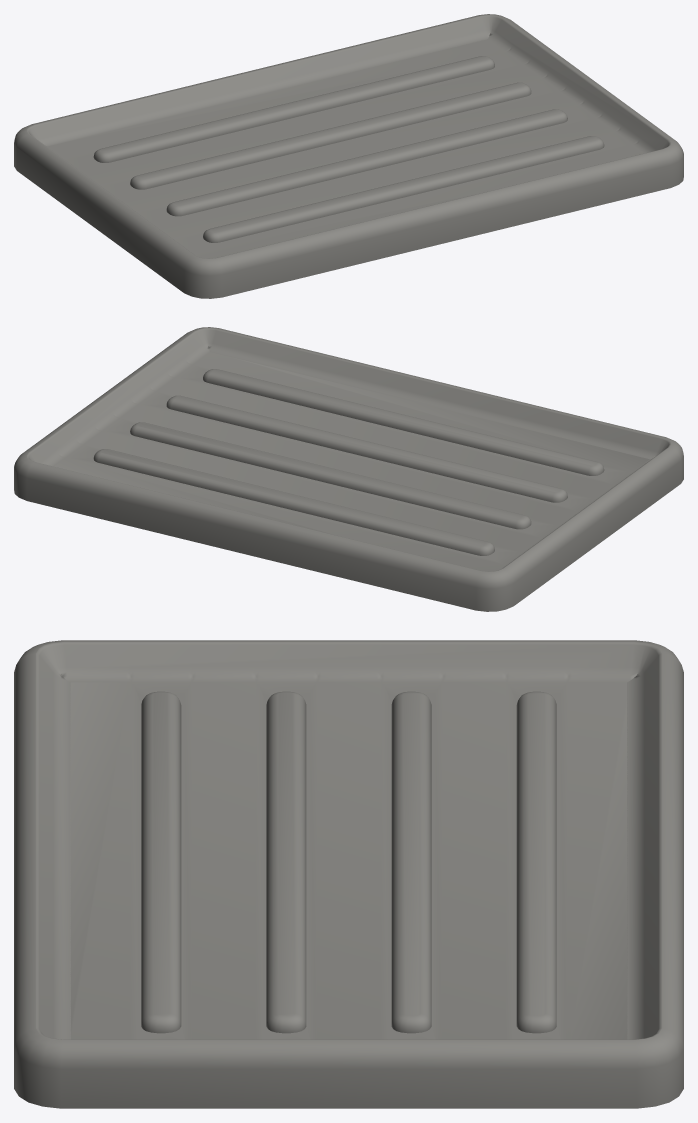
File: KitchenDryRackV2.FBX
3 renders of one model, top to bottom at view 1: azimuth 30°, elevation 25°; view 2: azimuth 150°, elevation 25°; view 3: azimuth 270°, elevation 25°, orthographic. The views are drawn at different scales.
Parts seen in each view (by area): view 1: Box001; view 2: Box001; view 3: Box001.
Part boxes in pixels (x1,y1,x2,y2): Box001: (14, 14, 683, 298); Box001: (14, 327, 683, 611); Box001: (14, 640, 683, 1108).
Size of the model in its own units: 73.4 by 4.88 by 49.87.
1 material, 1 textured.
